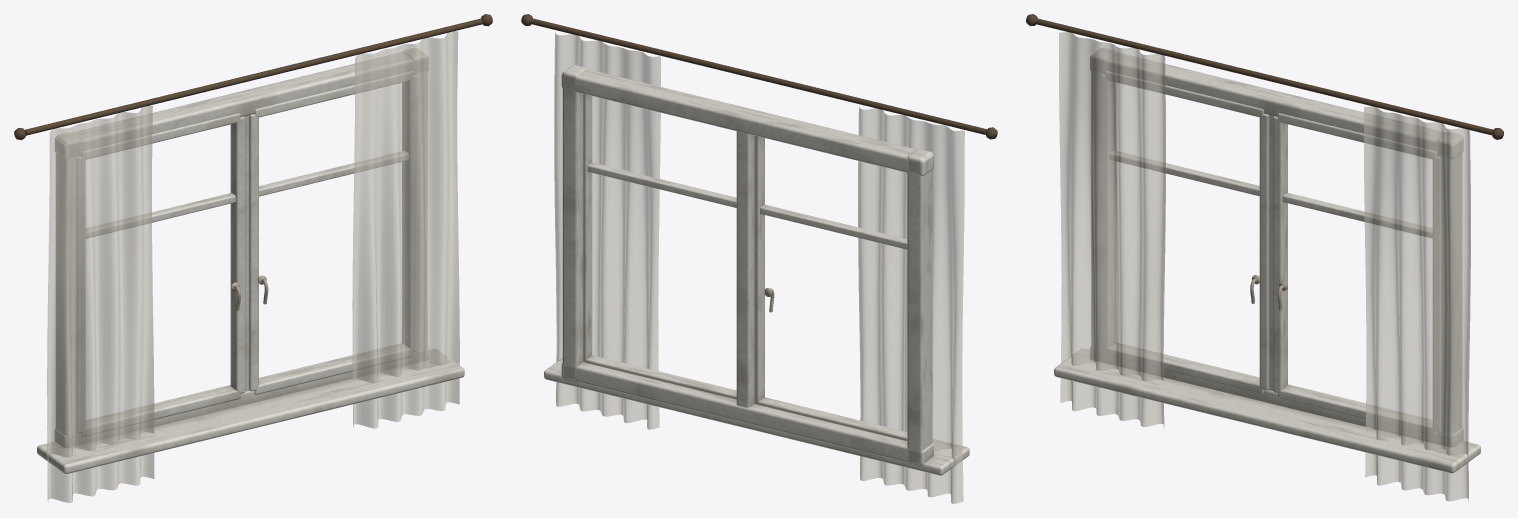
The model's file is dom_okno.glb.
The picture shows the model from 3 angles, left to right: view 1: azimuth 30°, elevation 25°; view 2: azimuth 150°, elevation 25°; view 3: azimuth 330°, elevation 25°; orthographic projection.
Visible parts, largest first — view 1: Rama, Firanka-1, Firanka1, Karnisz; view 2: Rama, Firanka-1, Firanka1, Karnisz; view 3: Rama, Firanka1, Firanka-1, Karnisz.
Boxes of the visible parts, x1,y1,x2,y2 form: Rama: (37,48,464,473); Firanka-1: (47,105,154,502); Firanka1: (352,31,459,428); Karnisz: (14,14,492,140); Rama: (544,65,969,475); Firanka-1: (858,107,964,503); Firanka1: (554,33,660,429); Karnisz: (521,14,997,139); Rama: (1054,48,1480,473); Firanka1: (1364,106,1470,502); Firanka-1: (1059,32,1165,428); Karnisz: (1026,14,1503,139).
Size of the model in its own units: 2.09 by 1.6 by 0.225.
Materials: 3 (1 with a texture image).
